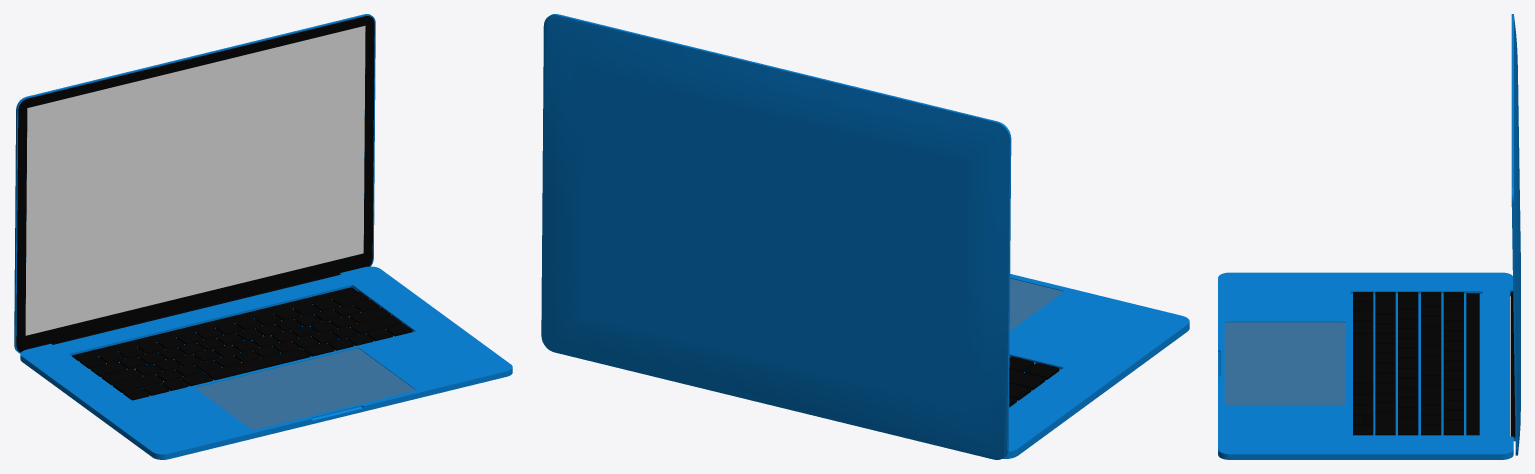
File: laptop3.glb
3 renders of one model, left to right at view 1: azimuth 30°, elevation 25°; view 2: azimuth 150°, elevation 25°; view 3: azimuth 270°, elevation 25°, orthographic. The views are drawn at different scales.
Parts seen in each view (by area): view 1: screen, base, keyboard, touchbar; view 2: screen, base, keyboard; view 3: base, keyboard, screen, touchbar.
Boxes of the visible parts, box(x1,y1,x2,y2) form: screen: box(14, 14, 375, 353); base: box(20, 266, 512, 459); keyboard: box(79, 291, 412, 400); touchbar: box(72, 287, 358, 360); screen: box(541, 14, 1011, 459); base: box(1002, 274, 1189, 458); keyboard: box(1009, 356, 1059, 407); base: box(1218, 272, 1513, 459); keyboard: box(1353, 292, 1463, 435); screen: box(1510, 14, 1520, 455); touchbar: box(1466, 293, 1479, 435).
Bounding box in the file's own units: 8.81 × 6.16 × 6.2.
